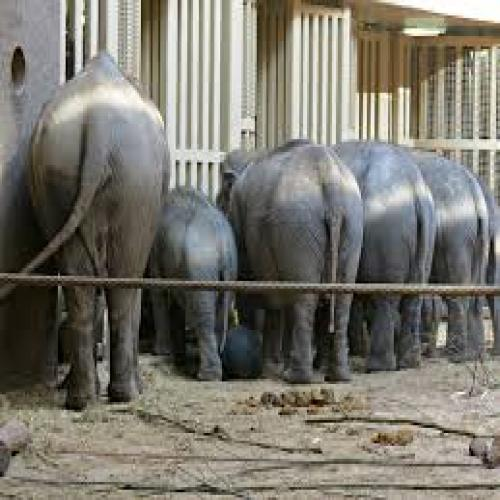asian_elephant-endangered: (32, 52, 164, 396), (154, 184, 238, 376)
